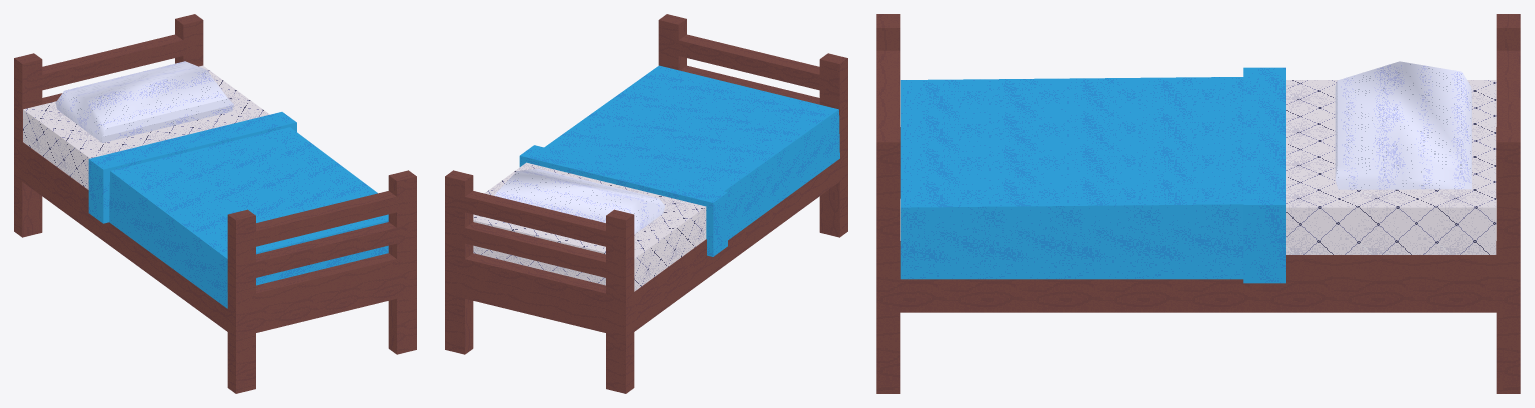
File: bed.glb
3 views of the same model, side by side, from view 1: azimuth 30°, elevation 25°; view 2: azimuth 150°, elevation 25°; view 3: azimuth 270°, elevation 25° (orthographic). The views are drawn at different scales.
Visible parts, largest first — view 1: BedFrame, Mattress, Pillow; view 2: BedFrame, Mattress, Pillow; view 3: Mattress, BedFrame, Pillow.
Boxes of the visible parts, x1=… form: BedFrame: x1=14, y1=14, x2=416, y2=393; Mattress: x1=23, y1=65, x2=388, y2=308; Pillow: x1=55, y1=61, x2=233, y2=142; BedFrame: x1=445, y1=14, x2=847, y2=393; Mattress: x1=473, y1=65, x2=839, y2=291; Pillow: x1=494, y1=168, x2=664, y2=233; Mattress: x1=900, y1=67, x2=1496, y2=283; BedFrame: x1=876, y1=14, x2=1520, y2=393; Pillow: x1=1335, y1=61, x2=1471, y2=189.
Size of the model in its own units: 1.04 by 0.8887 by 2.06.
Materials: 4 (4 with a texture image).
